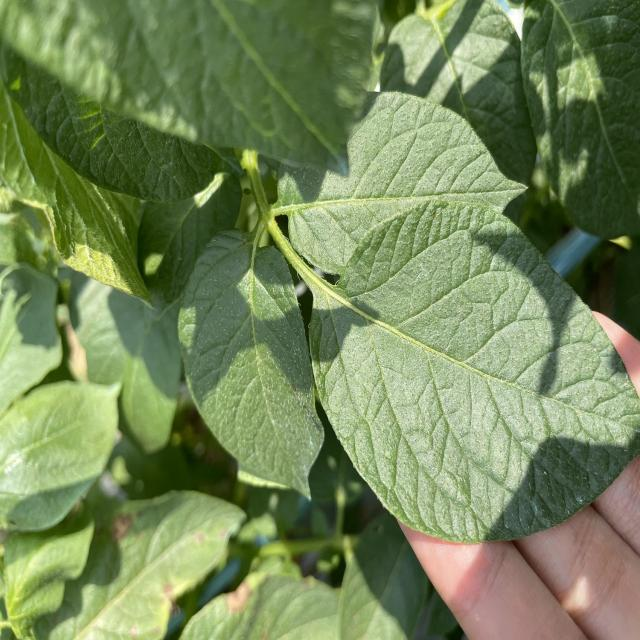healthy: (270, 89, 638, 545)
